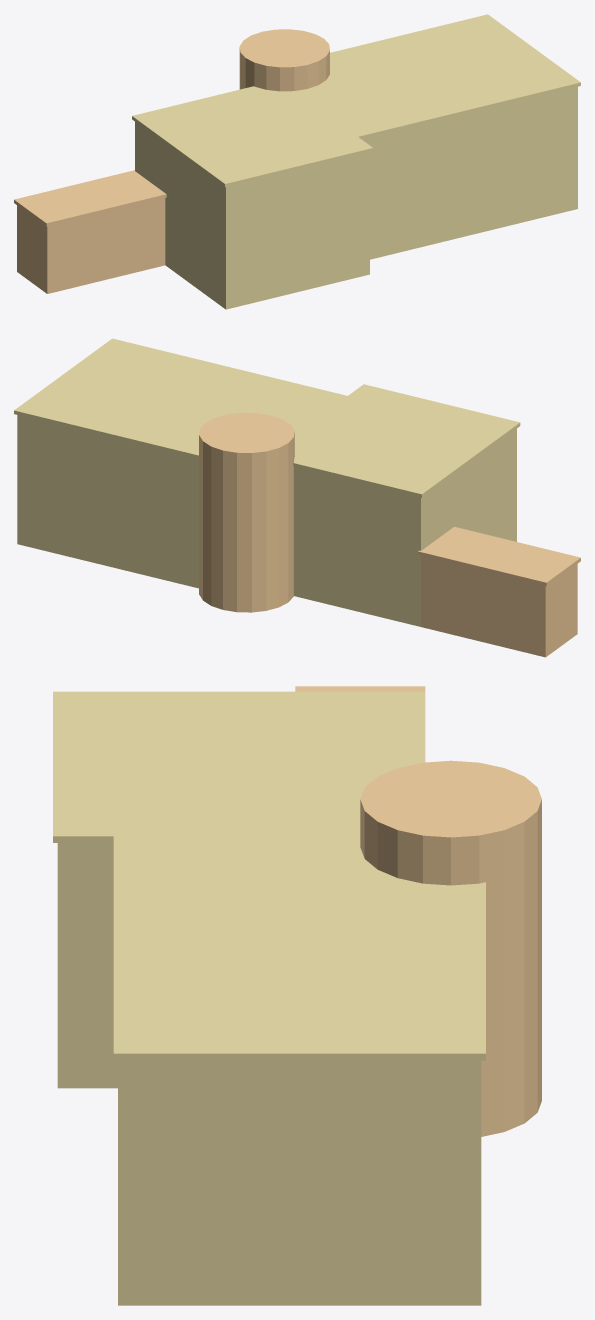
File: modelo.glb
3 renders of one model, top to bottom at view 1: azimuth 30°, elevation 25°; view 2: azimuth 150°, elevation 25°; view 3: azimuth 270°, elevation 25°, orthographic. The views are drawn at different scales.
Visible parts, largest first — view 1: cuerpo_A, cuerpo_B, cuerpo_B_cornisa, cuerpo_A_cornisa, conexion, remate_curvo, conexion_cornisa; view 2: cuerpo_B, cuerpo_A, cuerpo_B_cornisa, remate_curvo, cuerpo_A_cornisa, conexion, conexion_cornisa; view 3: cuerpo_B, cuerpo_B_cornisa, cuerpo_A_cornisa, remate_curvo, cuerpo_A, conexion_cornisa.
Boxes of the visible parts, box(x1,y1,x2,y2) form: cuerpo_A: box(135, 122, 369, 309); cuerpo_B: box(362, 86, 577, 259); cuerpo_B_cornisa: box(291, 14, 580, 139); cuerpo_A_cornisa: box(132, 86, 373, 187); conexion: box(17, 198, 165, 293); remate_curvo: box(239, 29, 329, 91); conexion_cornisa: box(14, 170, 166, 226); cuerpo_B: box(17, 415, 198, 588); cuerpo_A: box(294, 428, 516, 626); cuerpo_B_cornisa: box(14, 338, 349, 458); remate_curvo: box(199, 412, 294, 612); cuerpo_A_cornisa: box(293, 384, 520, 497); conexion: box(421, 556, 577, 657); conexion_cornisa: box(417, 526, 580, 586); cuerpo_B: box(118, 1060, 481, 1305); cuerpo_B_cornisa: box(113, 833, 485, 1060); cuerpo_A_cornisa: box(53, 691, 425, 842); remate_curvo: box(360, 760, 541, 1136); cuerpo_A: box(57, 843, 117, 1088); conexion_cornisa: box(295, 686, 425, 691).
Size of the model in its own units: 37.3 by 11 by 16.15.
